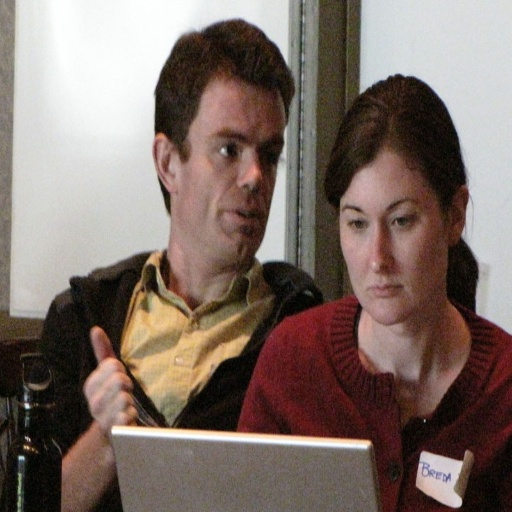hand: (65, 332, 133, 474)
